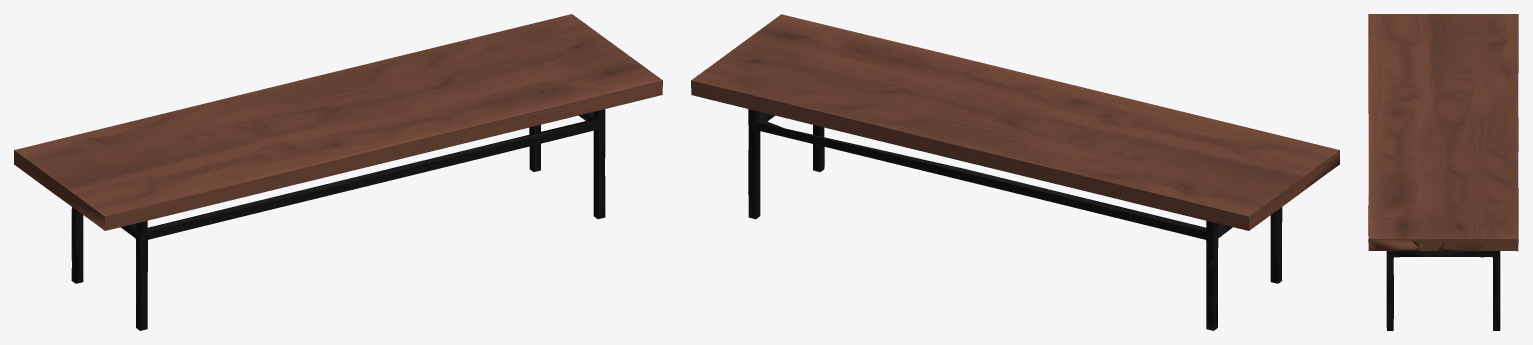
File: PR_LobbyBench.fbx
The picture shows the model from 3 angles, left to right: view 1: azimuth 30°, elevation 25°; view 2: azimuth 150°, elevation 25°; view 3: azimuth 270°, elevation 25°; orthographic projection. The views are drawn at different scales.
Visible parts, largest first — view 1: Mesh_0; view 2: Mesh_0; view 3: Mesh_0.
Part boxes in pixels (x1,y1,x2,y2): Mesh_0: (14,14,662,330); Mesh_0: (691,14,1339,330); Mesh_0: (1368,14,1518,330).
Bounding box in the file's own units: 190 × 43.63 × 53.58.
Materials: 1 (1 with a texture image).
